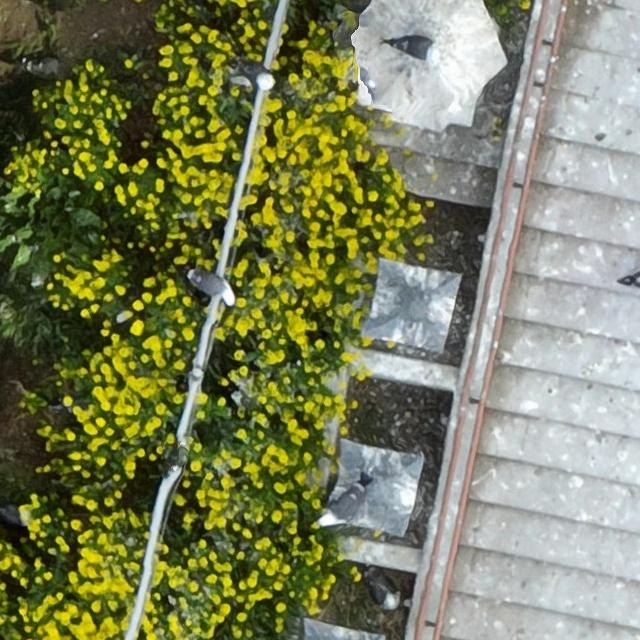umineko: (319, 481, 368, 529), (187, 272, 233, 298), (235, 62, 274, 86), (368, 578, 396, 608), (396, 38, 434, 57), (1, 504, 28, 526)
